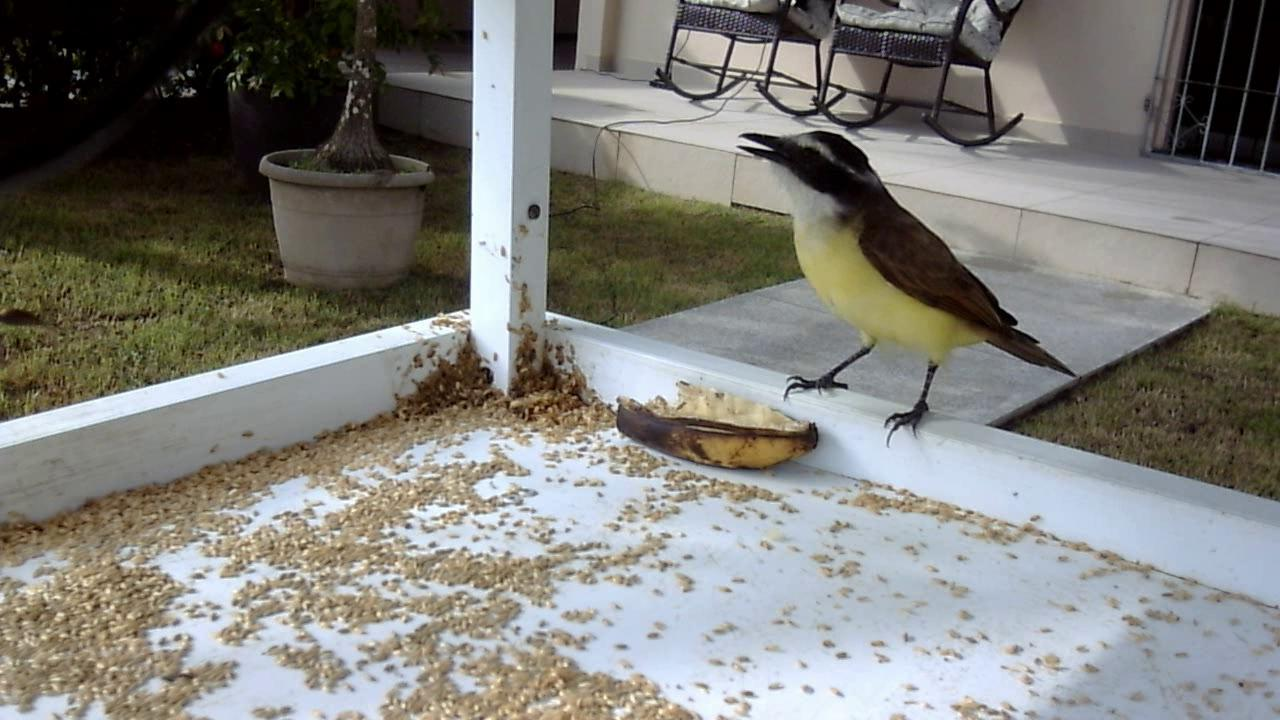bem_te_vi: (710, 124, 1093, 461)
